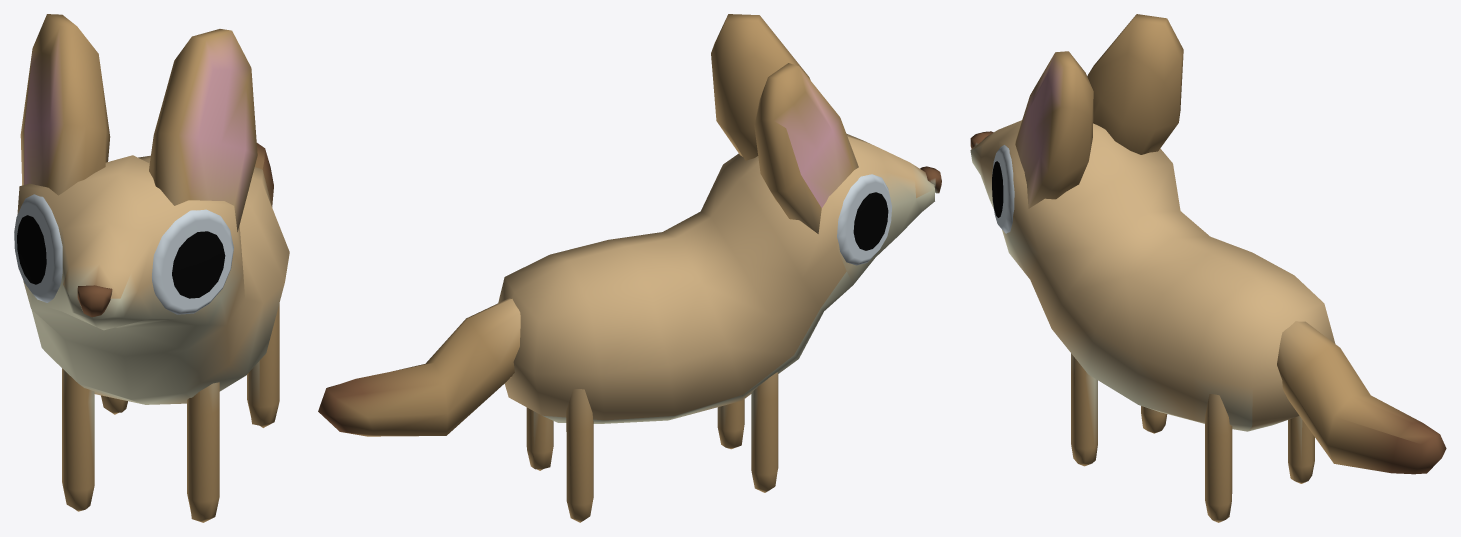
File: FennecFox.glb
The picture shows the model from 3 angles, left to right: view 1: azimuth 30°, elevation 25°; view 2: azimuth 150°, elevation 25°; view 3: azimuth 270°, elevation 25°; orthographic projection. The views are drawn at different scales.
Parts seen in each view (by area): view 1: 47; view 2: 47; view 3: 47.
Boxes of the visible parts, left/top/right/bottom form: 47: left=14, top=14, right=289, bottom=522; 47: left=318, top=14, right=941, bottom=522; 47: left=970, top=14, right=1446, bottom=522.
Bounding box in the file's own units: 0.6245 × 0.6484 × 0.6856.
